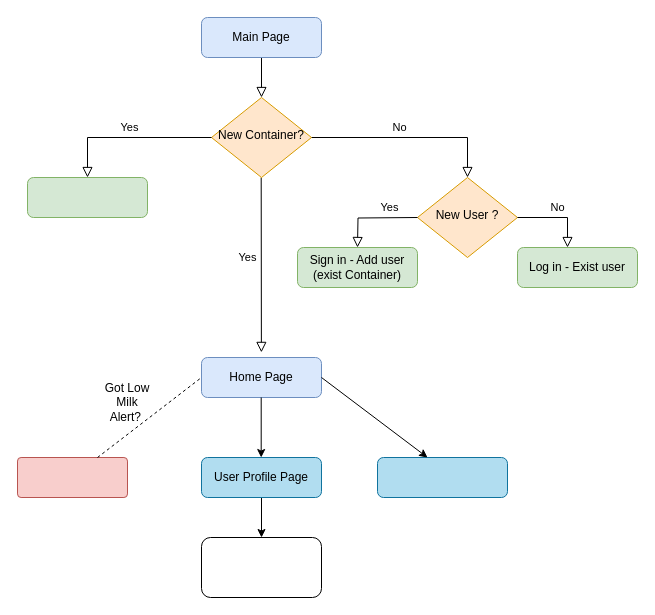
Some shapes in this 655 by 615 pixel diagram are drawn without their labels. Here are the shapes that lost their labels. From the top down, the box of each, then its label:
(26, 176, 148, 218): Sign in - New user (new Container)
(16, 456, 128, 498): Low Milk Alert Page
(376, 456, 508, 498): Notification Preferences Page
(200, 536, 322, 598): Update contact information
